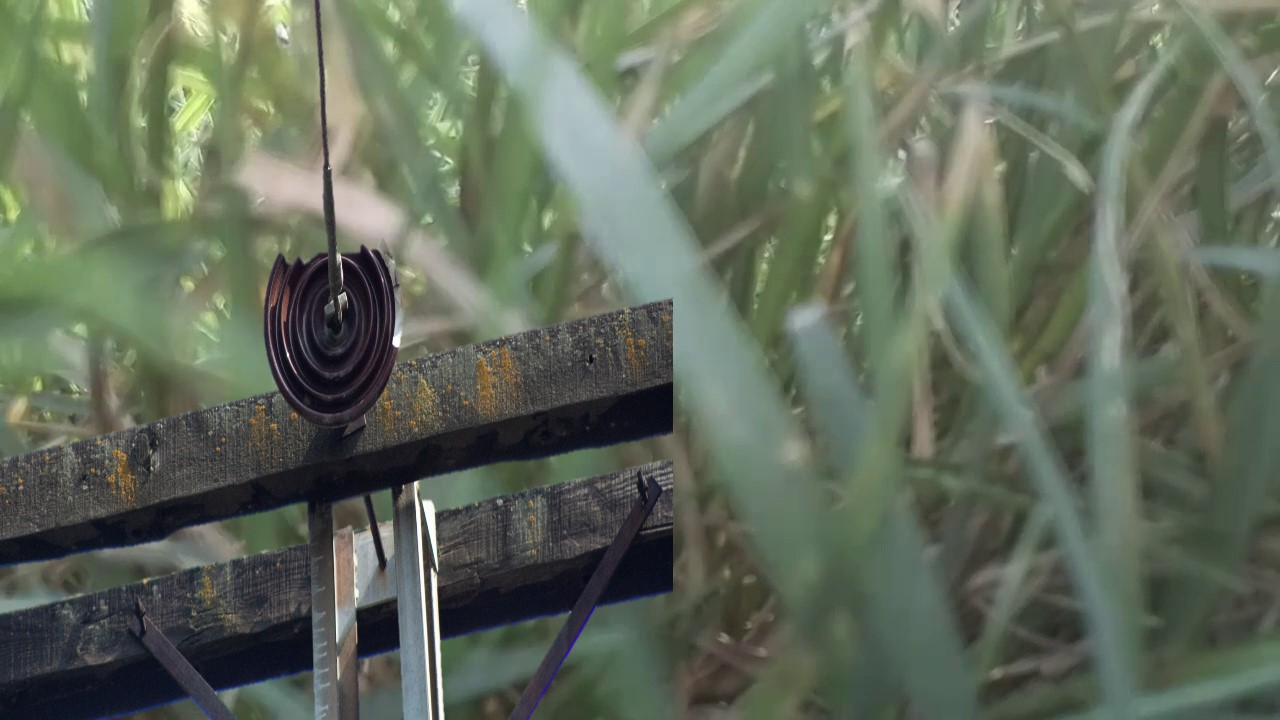defect_disc: (259, 238, 406, 434)
